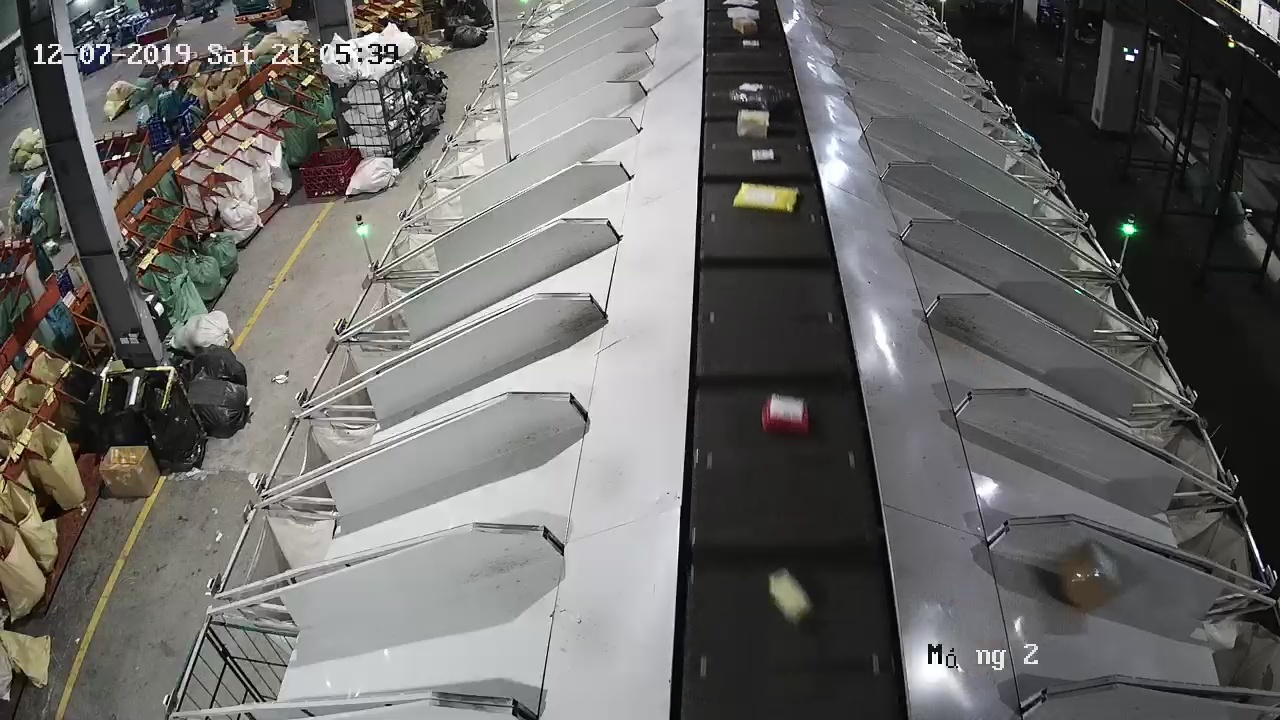parcel: (1060, 537, 1123, 613)
